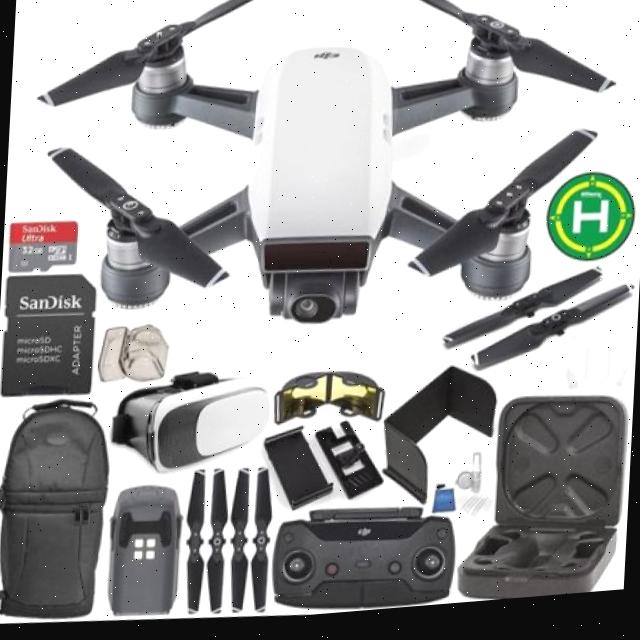drone: (21, 0, 610, 360)
